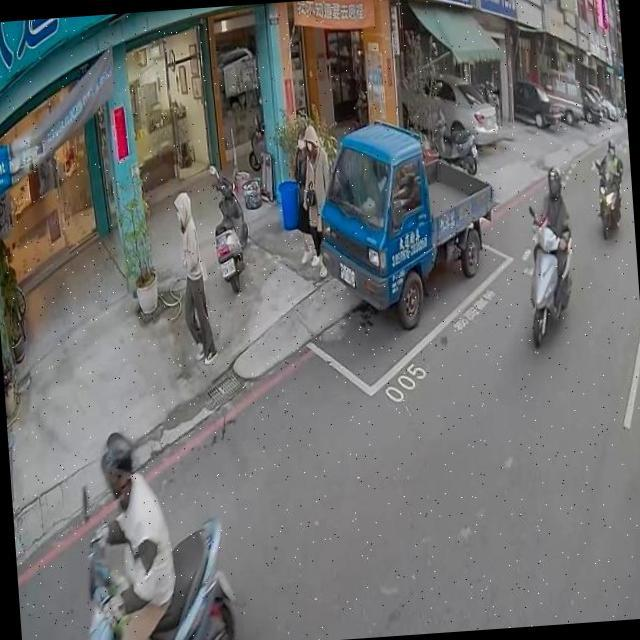person: (80, 421, 184, 640), (168, 188, 220, 364), (526, 164, 576, 314), (293, 120, 338, 275), (290, 134, 324, 259), (590, 138, 626, 226)
